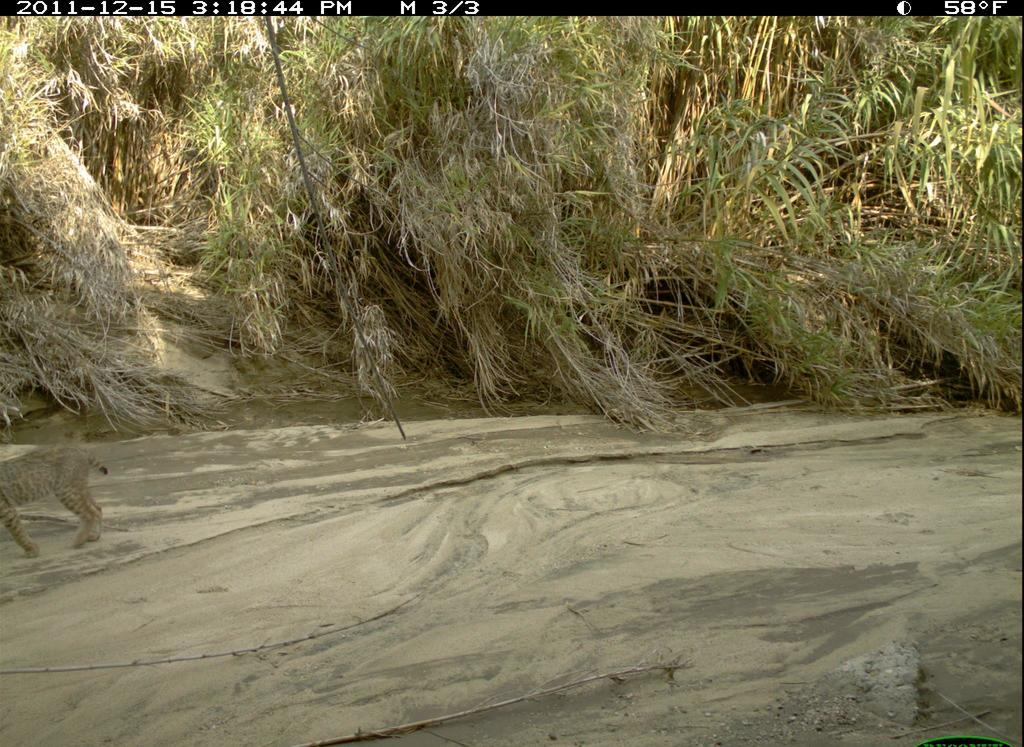bobcat: (1, 440, 123, 567)
